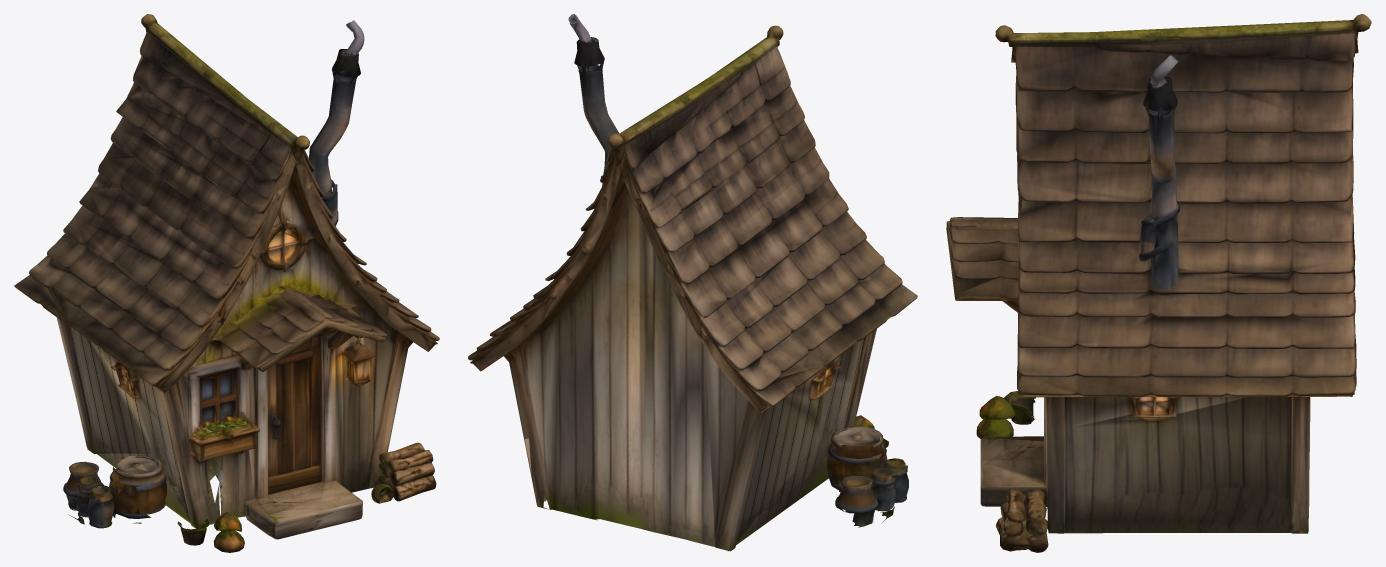
3 views of the same model, side by side, from view 1: azimuth 30°, elevation 25°; view 2: azimuth 150°, elevation 25°; view 3: azimuth 270°, elevation 25° (orthographic). The views are drawn at different scales.
Parts seen in each view (by area): view 1: material; view 2: material; view 3: material.
Boxes of the visible parts, x1,y1,x2,y2 form: material: (14,14,439,552); material: (468,14,917,551); material: (946,14,1371,552).
Bounding box in the file's own units: 4.23 × 5.4 × 4.23.
1 material, 1 textured.
